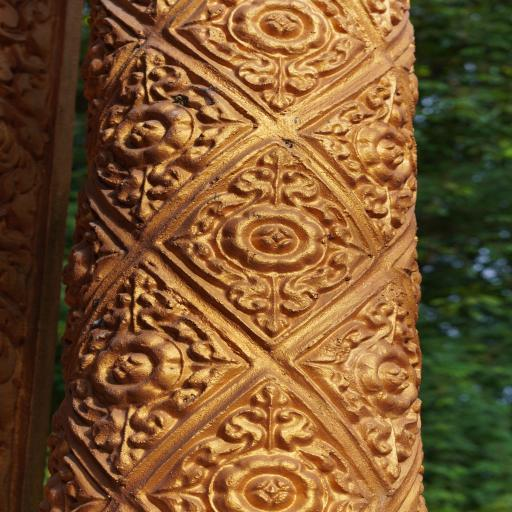hoa: (218, 199, 330, 275), (206, 451, 328, 512), (92, 332, 188, 404), (346, 338, 424, 424), (225, 0, 333, 57), (110, 100, 194, 166), (352, 120, 420, 191)
la: (212, 262, 338, 340), (214, 378, 327, 458), (72, 397, 183, 476), (181, 295, 250, 416), (89, 266, 197, 335), (160, 190, 231, 290), (145, 429, 229, 512), (219, 145, 332, 205), (190, 81, 262, 174), (350, 275, 432, 347), (356, 412, 430, 490), (98, 165, 200, 221), (66, 216, 126, 311), (322, 193, 379, 292), (317, 426, 382, 512), (1, 110, 57, 200), (235, 54, 327, 108), (350, 176, 420, 244), (1, 42, 60, 122), (298, 324, 352, 411), (308, 101, 362, 185), (116, 47, 194, 105), (1, 304, 44, 397), (4, 202, 44, 301), (356, 65, 424, 123), (0, 0, 65, 60), (91, 14, 139, 95), (326, 1, 370, 76), (60, 320, 98, 401), (184, 0, 231, 64), (125, 0, 183, 22)
